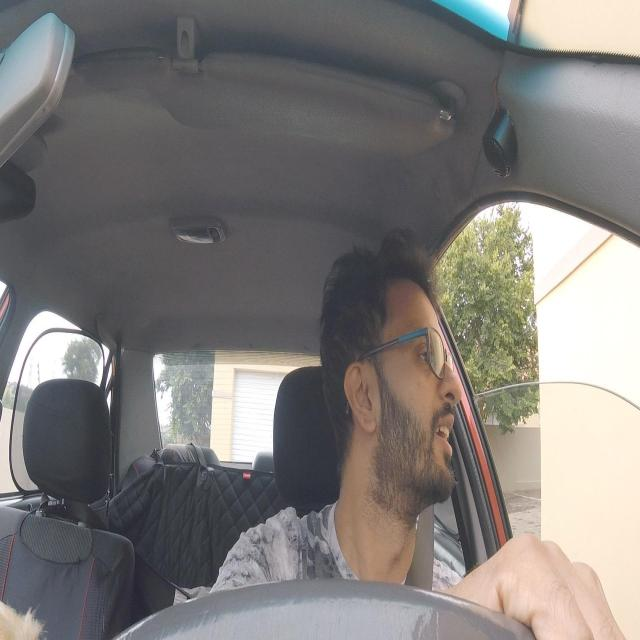open: (409, 325, 442, 386)
